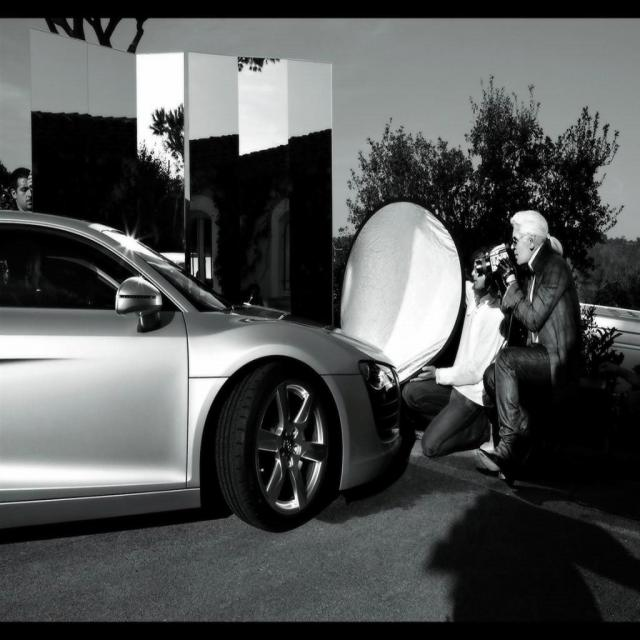nomask: (510, 226, 530, 264), (16, 178, 34, 209), (471, 258, 487, 289)
